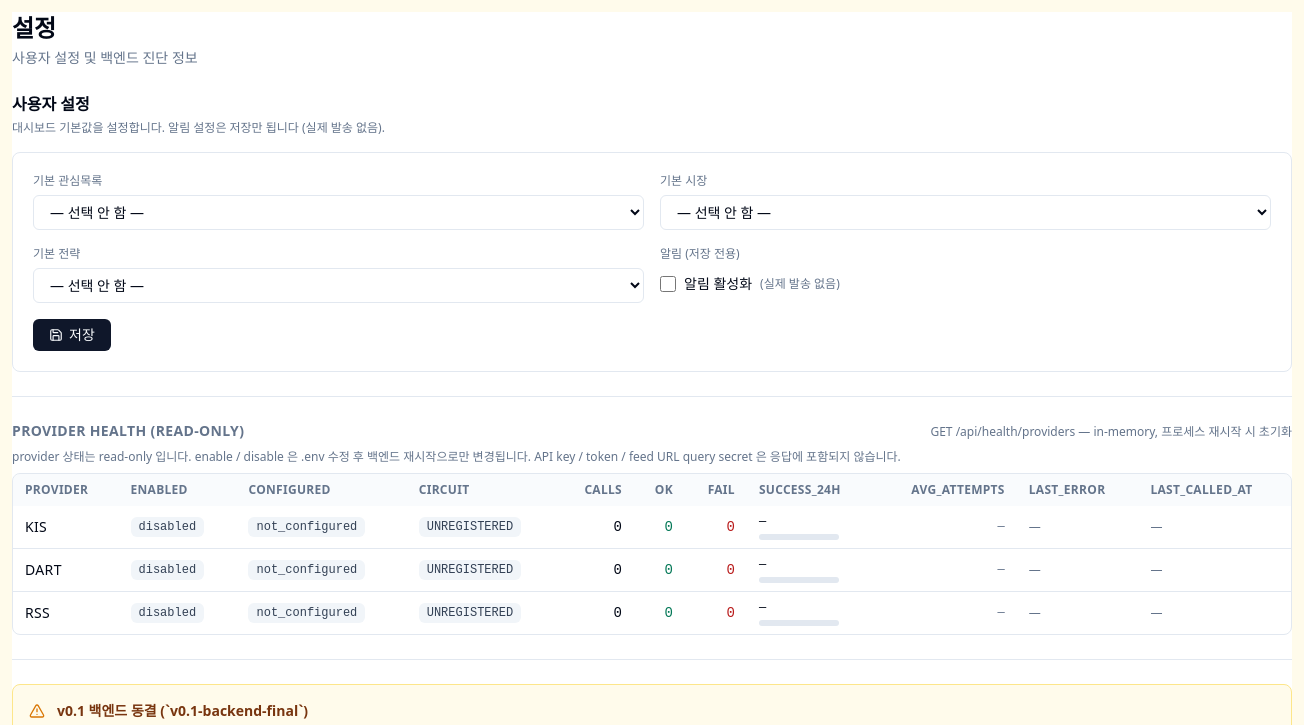
it: SettingsPage — UserPreference section › updates default_watchlist_id successfully
The width and height of the screenshot is (1304, 725).
# Select WL2
Select "기술주" in the dropdown with test id "pref-default-watchlist" at (338, 212), box [33,195,644,230]
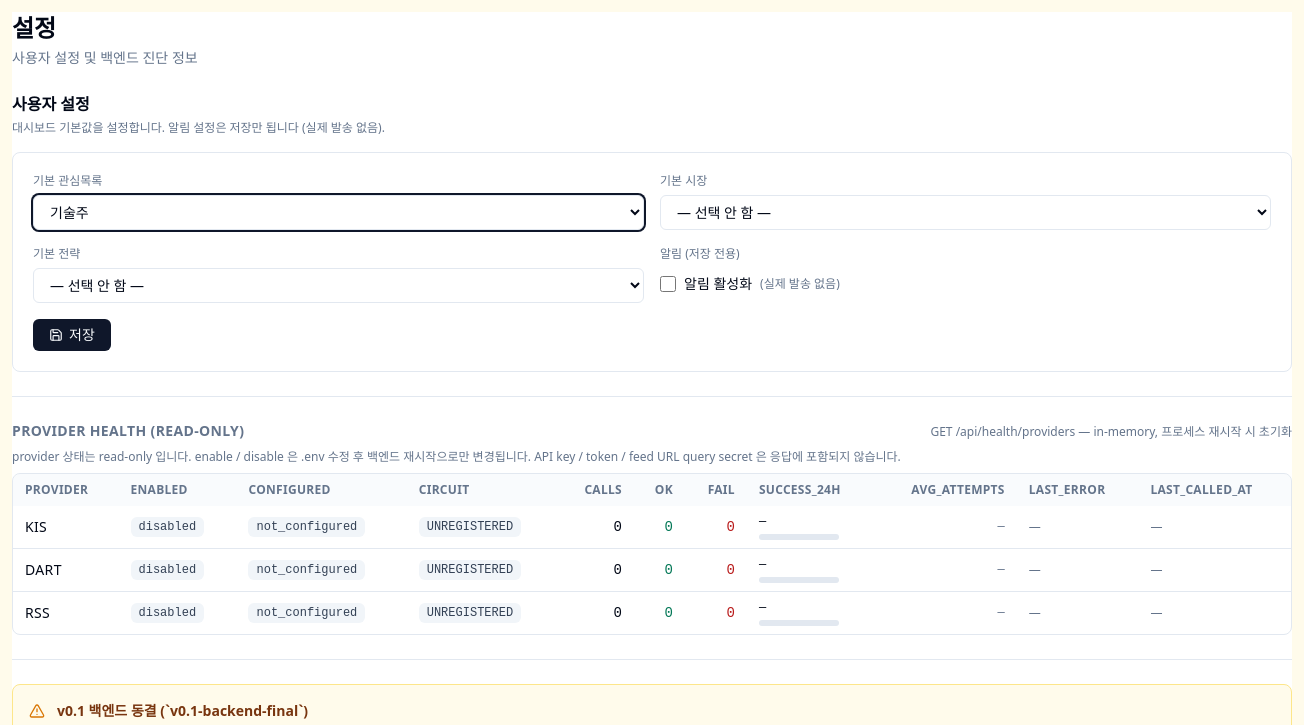
Click the button with test id "pref-save-btn" at (72, 335), box [33,319,111,351]
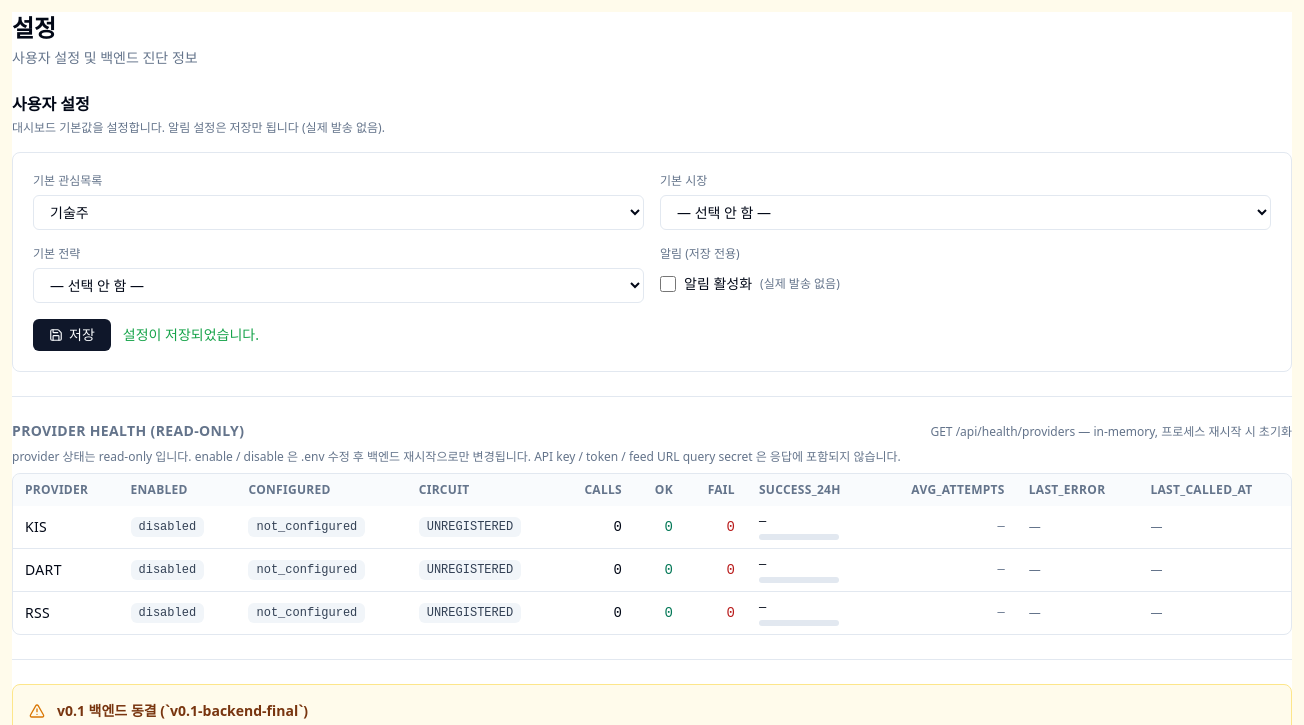
expect the text "설정이 저장되었습니다." is shown: met, box [123,325,259,345]
